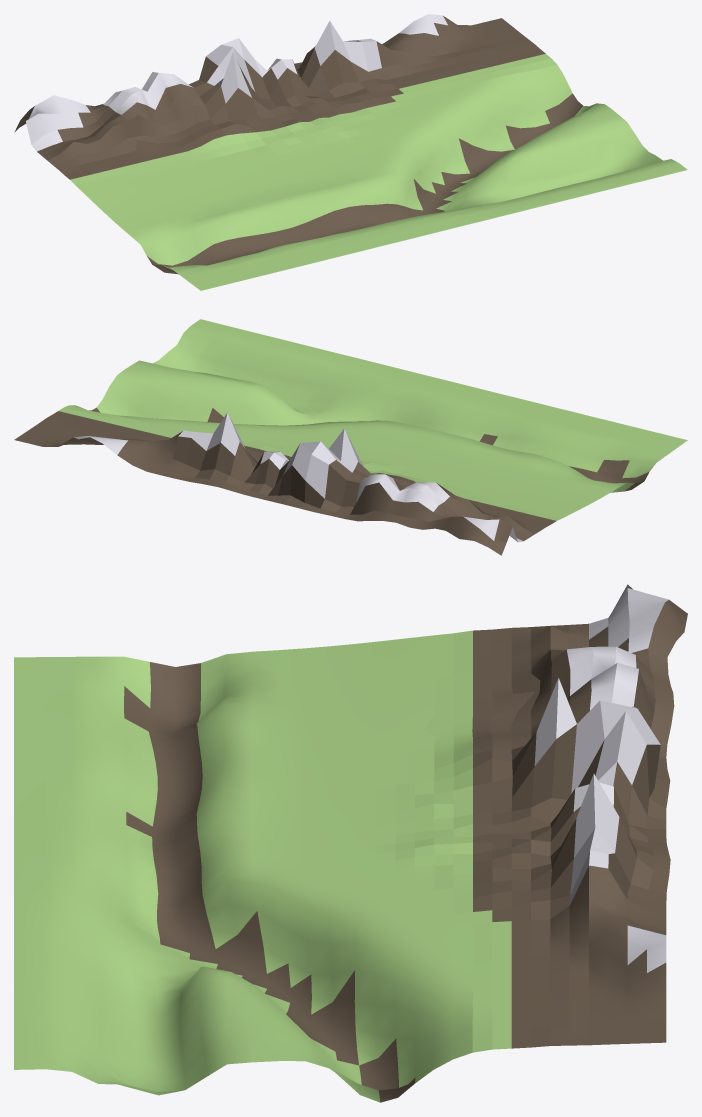
Rendered from lowpolymountains.obj.
3 renders of one model, top to bottom at view 1: azimuth 30°, elevation 25°; view 2: azimuth 150°, elevation 25°; view 3: azimuth 270°, elevation 25°, orthographic. The views are drawn at different scales.
Visible parts, largest first — view 1: Sahne_Plane; view 2: Sahne_Plane; view 3: Sahne_Plane.
Part boxes in pixels (x1,y1,x2,y2): Sahne_Plane: (14,14,687,290); Sahne_Plane: (14,319,687,555); Sahne_Plane: (14,584,687,1102).
Bounding box in the file's own units: 51.04 × 11.13 × 34.56.
1 material, 1 textured.
